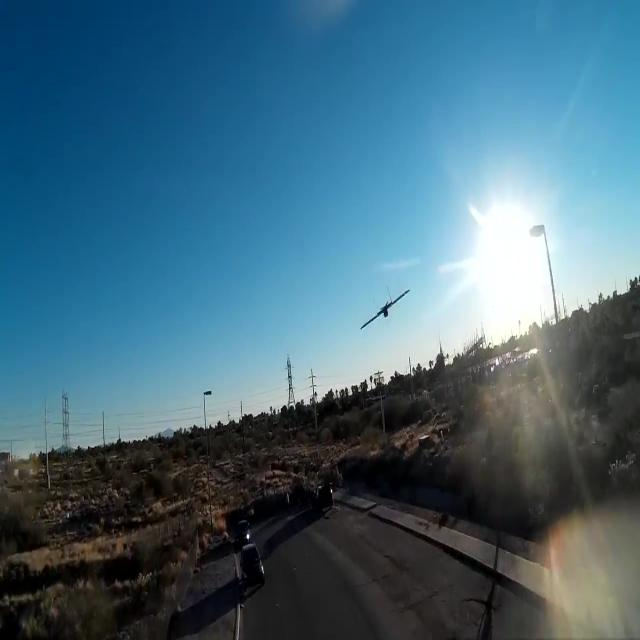iha: (360, 284, 412, 331)
